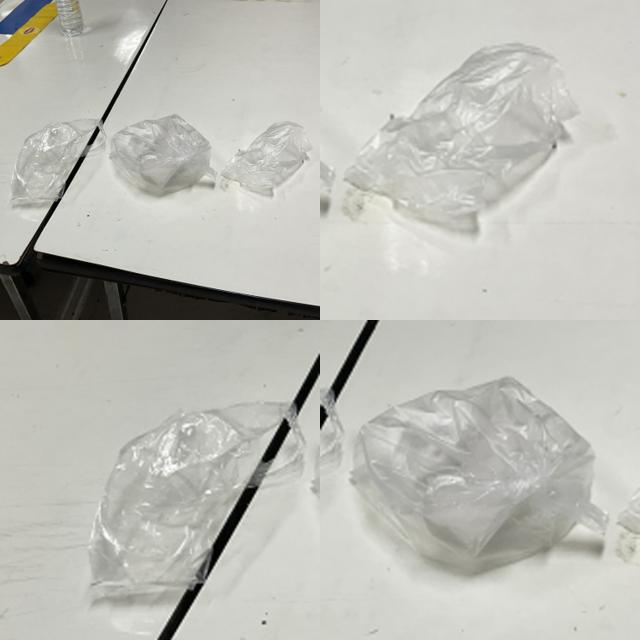Single-layer Plastic: (351, 376, 606, 572), (345, 44, 578, 232), (89, 402, 305, 594), (110, 114, 216, 196), (11, 119, 105, 204), (221, 121, 312, 195)
